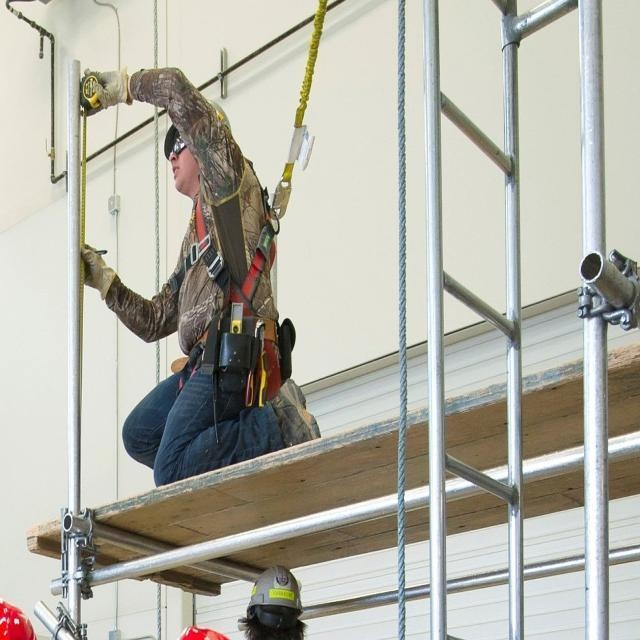Arnes_seguridad: (183, 185, 281, 401)
